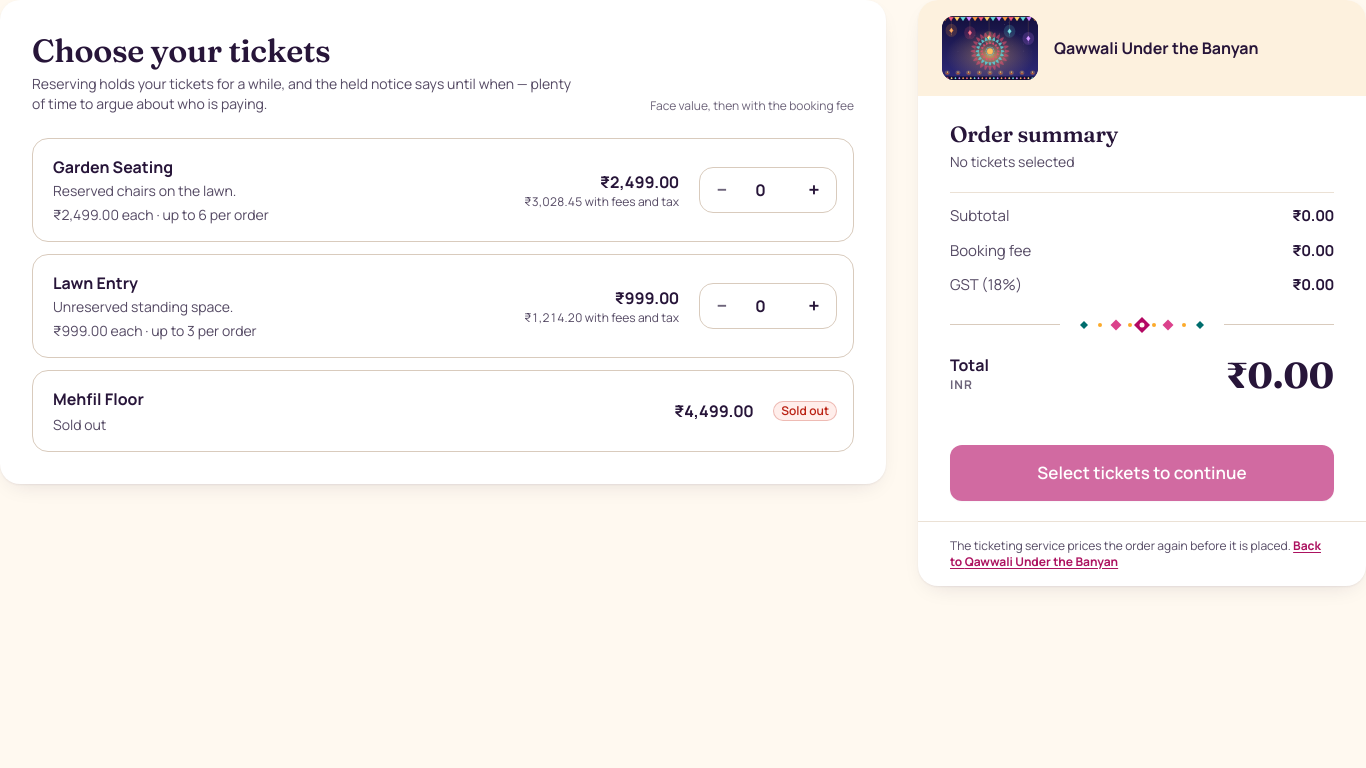
buying › asks a signed-out visitor to sign in, and comes back here, before anything is held
This screenshot has width=1366, height=768.
What coordinates should you click on to do the following:
click the button named "Add one Garden Seating"
I would click on:
 (814, 190)
Its box is [792,168,836,212].
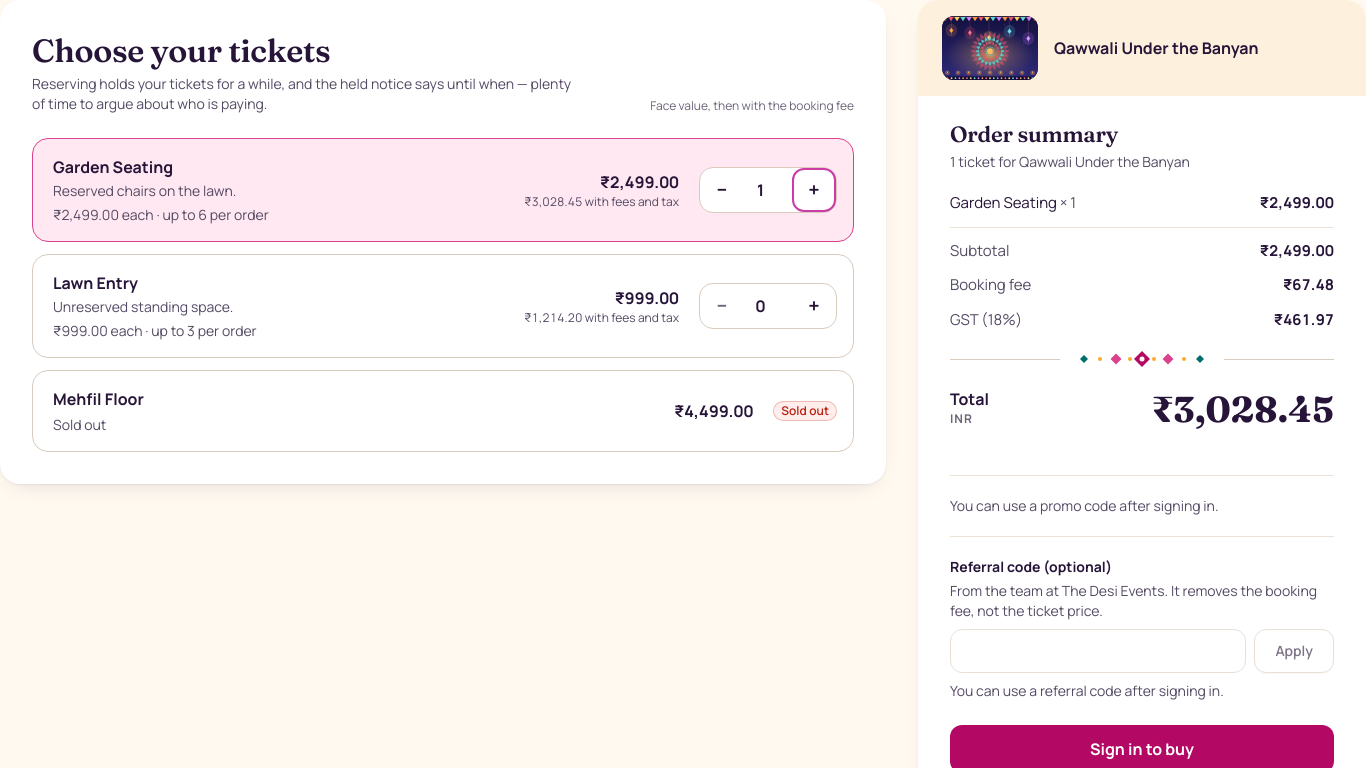
Expected: the text with test id "summary-total" no longer shows "₹0.00", [1152,391,1334,427]
